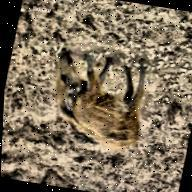boar: (39, 47, 155, 155)
